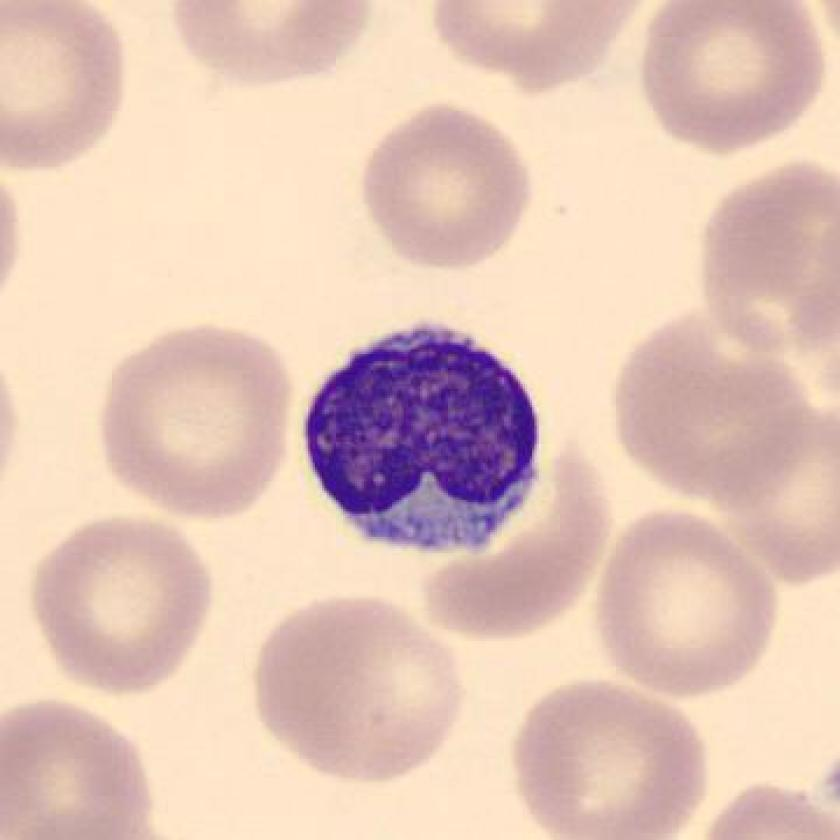lymphocyte: (286, 306, 566, 568)
